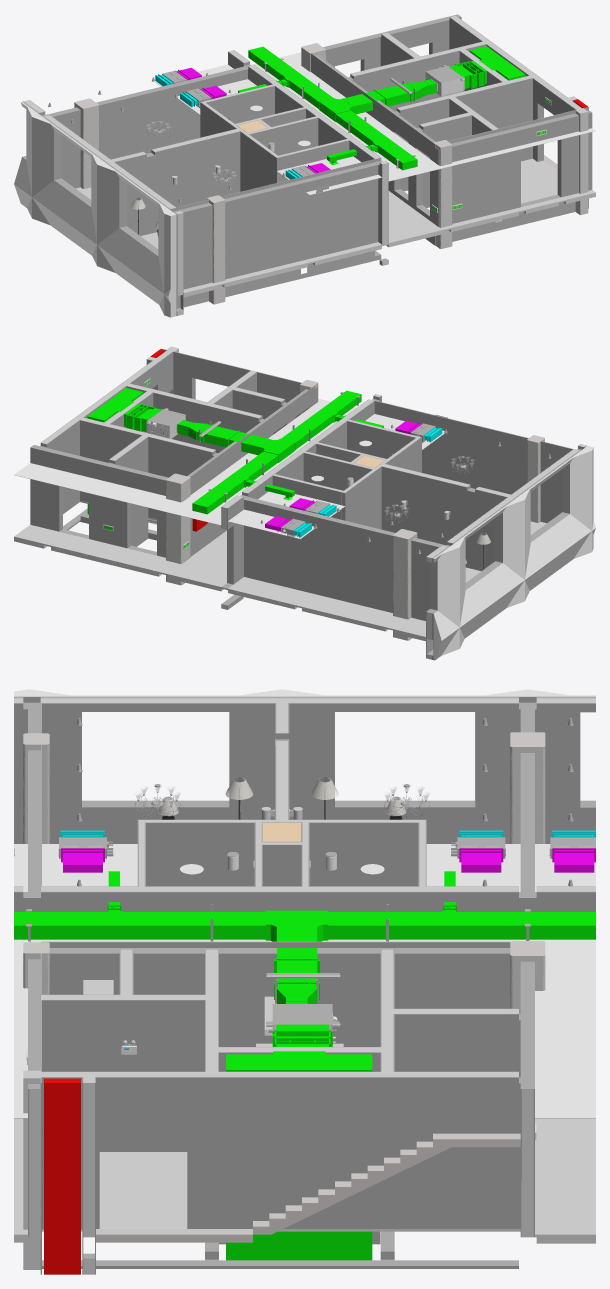
The model's file is hotelD.gltf.
3 renders of one model, top to bottom at view 1: azimuth 30°, elevation 25°; view 2: azimuth 150°, elevation 25°; view 3: azimuth 270°, elevation 25°, orthographic. The views are drawn at different scales.
Visible parts, largest first — view 1: 墙内墙_砌体墙_200mm (×16), 常规模型常规模型 71 (×6), 墙内墙_砌体墙_100mm (×5), 楼板建筑楼板_50, 风管隔热层泡沫橡塑制品(PVC/NBR) (×7), 楼板走廊吊顶-10, 墙外墙_砌体墙_200mm, 结构柱450x450x20 (×2), 结构柱600x600x20 (×2), 楼板房间走廊吊顶-10, 结构柱300x300, 机械设备03D_4排 (+1 smaller); view 2: 墙内墙_砌体墙_200mm (×14), 常规模型常规模型 71 (×6), 楼板建筑楼板_50, 墙内墙_砌体墙_100mm (×5), 楼板走廊吊顶-10, 风管隔热层泡沫橡塑制品(PVC/NBR) (×7), 结构柱600x600x20 (×2), 墙外墙_砌体墙_200mm (×2), 楼板房间走廊吊顶-10, 结构柱450x450x20, 风管管件标准, 机械设备03D_4排 (+1 smaller); view 3: 墙内墙_砌体墙_200mm (×15), 墙外墙_砌体墙_200mm (×2), 楼板建筑楼板_50, 风管隔热层泡沫橡塑制品(PVC/NBR) (×7), 墙内墙_砌体墙_100mm (×2), 楼板走廊吊顶-10, 风管镀锌钢板_法兰 (×3), 楼板房间走廊吊顶-10, 楼梯楼梯 (×2), 结构柱600x600x20 (×2), 风管管件标准, 结构柱450x450x20 (×2) (+4 smaller).
Part boxes in pixels (x1,y1,x2,y2): 墙内墙_砌体墙_200mm (×16): (46,14,592,308); 常规模型常规模型 71 (×6): (14,102,176,314); 墙内墙_砌体墙_100mm (×5): (200,84,349,191); 楼板建筑楼板_50: (76,158,595,294); 风管隔热层泡沫橡塑制品(PVC/NBR) (×7): (249,47,417,170); 楼板走廊吊顶-10: (250,18,595,181); 墙外墙_砌体墙_200mm: (40,115,183,294); 结构柱450x450x20 (×2): (207,140,452,283); 结构柱600x600x20 (×2): (74,43,325,188); 楼板房间走廊吊顶-10: (155,64,381,195); 结构柱300x300: (575,108,588,193); 机械设备03D_4排: (425,66,464,96); 墙内墙_砌体墙_200mm (×14): (30,348,575,620); 常规模型常规模型 71 (×6): (433,449,591,660); 楼板建筑楼板_50: (14,500,546,638); 墙内墙_砌体墙_100mm (×5): (272,419,421,529); 楼板走廊吊顶-10: (14,398,355,525); 风管隔热层泡沫橡塑制品(PVC/NBR) (×7): (193,390,361,513); 结构柱600x600x20 (×2): (166,473,417,619); 墙外墙_砌体墙_200mm (×2): (426,444,586,638); 楼板房间走廊吊顶-10: (228,414,444,539); 结构柱450x450x20: (527,435,544,522); 风管管件标准: (87,388,143,422); 机械设备03D_4排: (146,409,185,438); 墙内墙_砌体墙_200mm (×15): (14,703,595,1268); 墙外墙_砌体墙_200mm (×2): (14,696,595,843); 楼板建筑楼板_50: (14,980,595,1237); 风管隔热层泡沫橡塑制品(PVC/NBR) (×7): (14,910,593,999); 墙内墙_砌体墙_100mm (×2): (139,819,425,996); 楼板走廊吊顶-10: (14,939,595,1118); 风管镀锌钢板_法兰 (×3): (44,823,372,1274); 楼板房间走廊吊顶-10: (14,844,595,891); 楼梯楼梯 (×2): (96,1133,520,1242); 结构柱600x600x20 (×2): (510,732,545,1014); 风管管件标准: (226,1051,372,1071); 结构柱450x450x20 (×2): (23,733,49,999).
Size of the model in its own units: 52.27 by 11.86 by 32.65.
Materials: 39 (2 with a texture image).
